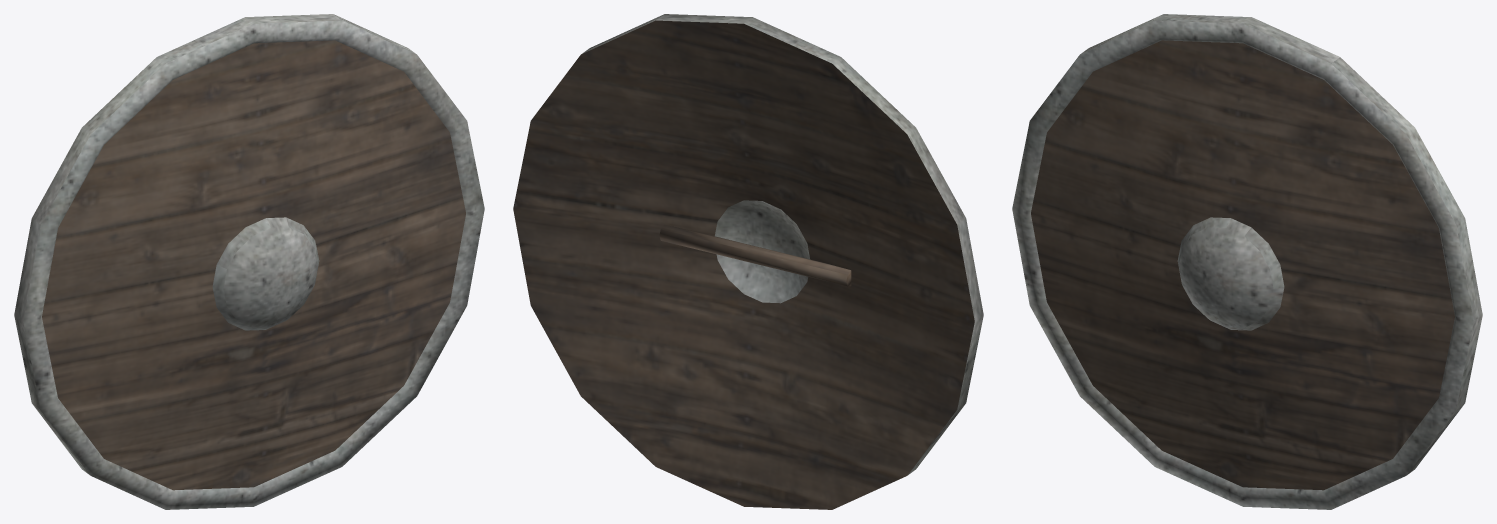
File: round_shield.glb
3 renders of one model, left to right at view 1: azimuth 30°, elevation 25°; view 2: azimuth 150°, elevation 25°; view 3: azimuth 330°, elevation 25°, orthographic.
Parts seen in each view (by area): view 1: Shield_Iron_0; view 2: Shield_Iron_0; view 3: Shield_Iron_0.
Boxes of the visible parts, x1,y1,x2,y2 form: Shield_Iron_0: (14, 14, 484, 509); Shield_Iron_0: (513, 14, 983, 509); Shield_Iron_0: (1012, 14, 1482, 509).
Size of the model in its own units: 0.1986 by 0.1986 by 0.0254.
2 materials, 2 textured.
